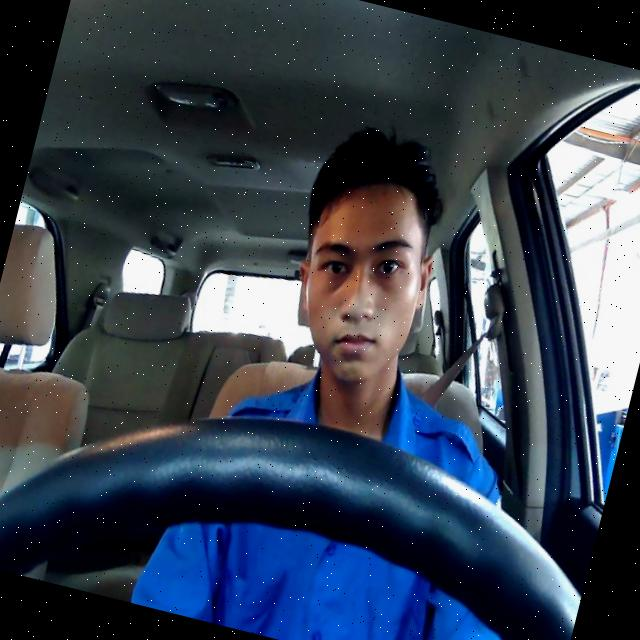focused: (274, 168, 450, 392)
